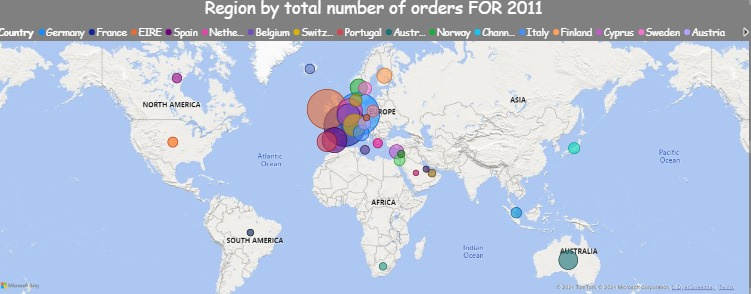

What the dashboard file says about the page in this screenshot:
{"tool":"powerbi","page":{"name":"Question 4","canvas":[1280,720],"ordinal":3},"visuals":[{"type":"slicer","title":"Year","fields":{"Values":["Online Retail.InvoiceDate.Variation.Date Hierarchy.Year"]},"box":[760.9,0,519.1,149.5],"z":0},{"type":"textbox","box":[8,0,753,150],"z":1000},{"type":"map","title":"Region by total number of orders","fields":{"Category":["Online Retail.Country"],"Series":["Online Retail.Country"],"Size":["CountNonNull(Online Retail.CustomerID)"]},"box":[8.4,215,1271.6,505.6],"z":2000},{"type":"actionButton","box":[0,0,100,40],"z":3000}]}

Visuals, with their boxes on the page's 1280x720 design canvas (x1, y1, x2, y2). These are canvas units, not pixel positions in the 751x294 screenshot, which may show the page scaled, cropped or inside an application window:
"Year" slicer: 761, 0, 1280, 150
textbox: 8, 0, 761, 150
"Region by total number of orders" map: 8, 215, 1280, 721
actionButton: 0, 0, 100, 40
